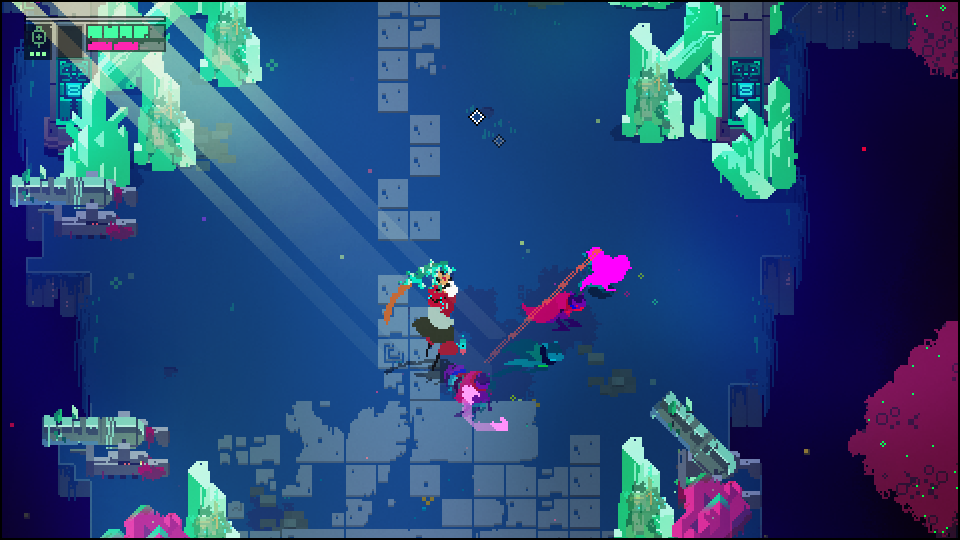hanged_man: (395, 255, 465, 366)
player: (579, 245, 632, 290)
